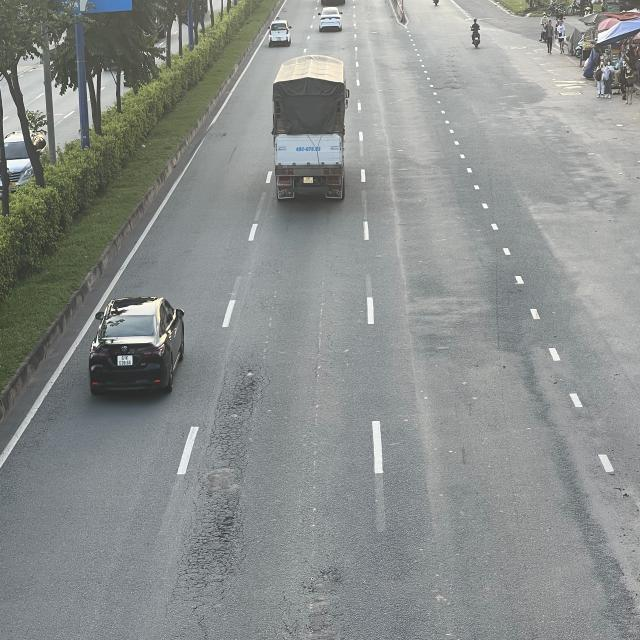car: (87, 295, 187, 399), (318, 7, 344, 34), (268, 20, 292, 47)
truck: (272, 56, 350, 204)
